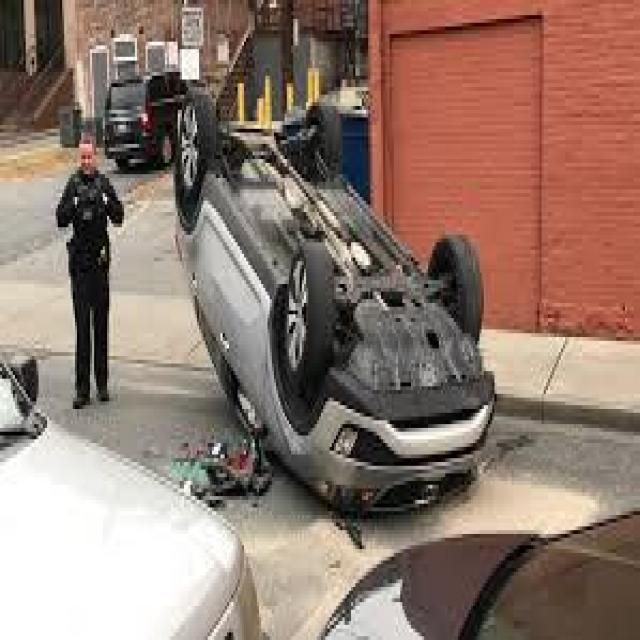accident: (170, 67, 500, 510)
